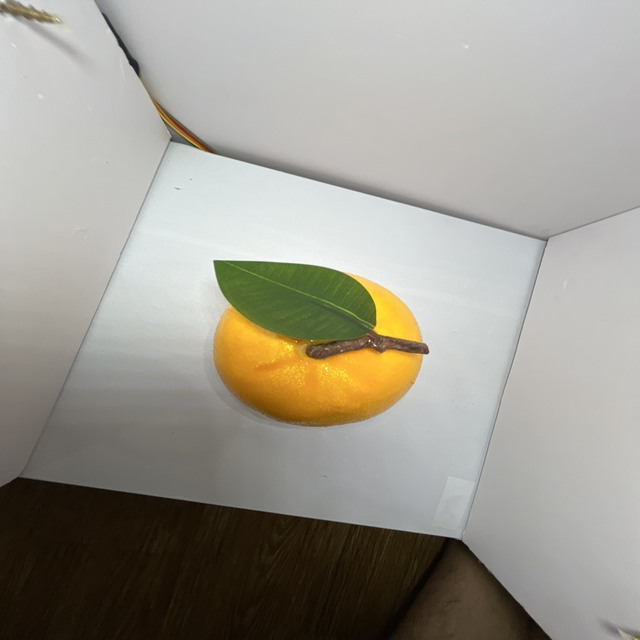Cam vang: (210, 263, 427, 430)
